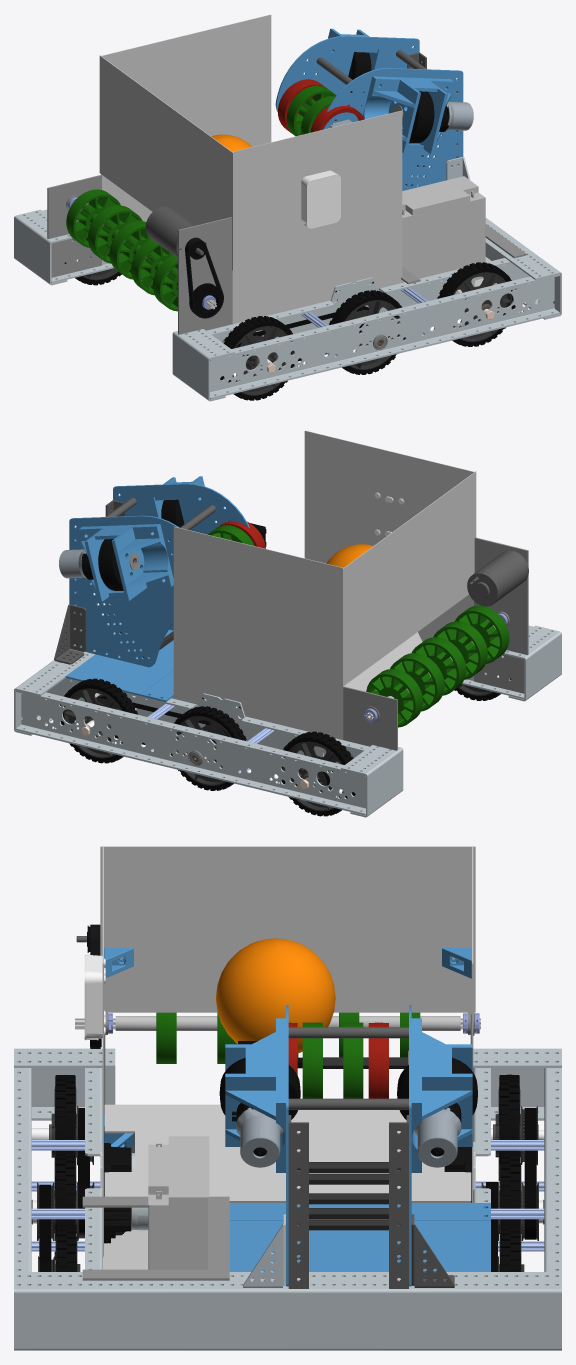
The model's file is ri3d-web.glb.
3 views of the same model, one above another, from view 1: azimuth 30°, elevation 25°; view 2: azimuth 150°, elevation 25°; view 3: azimuth 270°, elevation 25° (orthographic). The views are drawn at different scales.
Visible parts, largest first — view 1: Part 1 (×2), Front Plate, 4" Compliant Wheel (35A, 1" Wide, 1/2" Hex Bore), Bracket with motor mount, Robot Battery, 6 wheel tread II_3, 6 wheel Rev 4_3, 36t Aluminum Pulley (HTD 5mm, 9mm Wide, 1/2" Hex Bore), CIM Motor, Robot Radio (OM5P-AC) (2017-2024), 4" Stealth Wheel (40A, 1/2" Hex Bore), id133 (+1 smaller); view 2: Part 1 (×3), Front Plate, 4" Compliant Wheel (35A, 1" Wide, 1/2" Hex Bore), Bracket with motor mount, CIM Motor, 6 wheel tread II_3, 6 wheel Rev 4_3, 36t Aluminum Pulley (HTD 5mm, 9mm Wide, 1/2" Hex Bore), id133; view 3: Part 1 (×3), Front Plate, CIM Motor, Robot Battery, 6 wheel tread II_3, 1/2" Hex Shaft, 4" Compliant Wheel (35A, 1" Wide, 1/2" Hex Bore), Bracket with motor mount, id133, am-2571 655-5M-15 Timing Belt_2, 3.375in Churro_Square Configuration_7, 6 wheel Rev 4_3 (+5 smaller).
Boxes of the visible parts, x1,y1,x2,y2 form: Part 1 (×2): (99,14,490,323); Front Plate: (14,157,561,401); 4" Compliant Wheel (35A, 1" Wide, 1/2" Hex Bore): (66,85,336,311); Bracket with motor mount: (47,175,526,343); Robot Battery: (402,176,485,282); 6 wheel tread II_3: (64,239,515,400); 6 wheel Rev 4_3: (82,257,511,395); 36t Aluminum Pulley (HTD 5mm, 9mm Wide, 1/2" Hex Bore): (190,52,449,317); CIM Motor: (145,50,457,257); Robot Radio (OM5P-AC) (2017-2024): (301,170,340,228); 4" Stealth Wheel (40A, 1/2" Hex Bore): (278,79,364,133); id133: (328,101,473,131); Part 1 (×3): (65,430,476,755); Front Plate: (14,622,561,817); 4" Compliant Wheel (35A, 1" Wide, 1/2" Hex Bore): (208,525,509,727); Bracket with motor mount: (343,537,528,758); CIM Motor: (54,497,528,664); 6 wheel tread II_3: (60,655,511,816); 6 wheel Rev 4_3: (63,684,493,811); 36t Aluminum Pulley (HTD 5mm, 9mm Wide, 1/2" Hex Bore): (81,499,266,590); id133: (59,549,87,579); Part 1 (×3): (75,846,490,1286); Front Plate: (14,1048,561,1350); CIM Motor: (76,936,454,1288); Robot Battery: (148,1136,209,1269); 6 wheel tread II_3: (55,1074,520,1271); 1/2" Hex Shaft: (297,1057,407,1230); 4" Compliant Wheel (35A, 1" Wide, 1/2" Hex Bore): (156,1012,420,1098); Bracket with motor mount: (82,1012,471,1280); id133: (236,1107,461,1167); am-2571 655-5M-15 Timing Belt_2: (39,1108,536,1271); 3.375in Churro_Square Configuration_7: (31,1140,544,1251); 6 wheel Rev 4_3: (37,1086,538,1271).
Bounding box in the file's own units: 0.7191 × 0.4656 × 0.6858.
